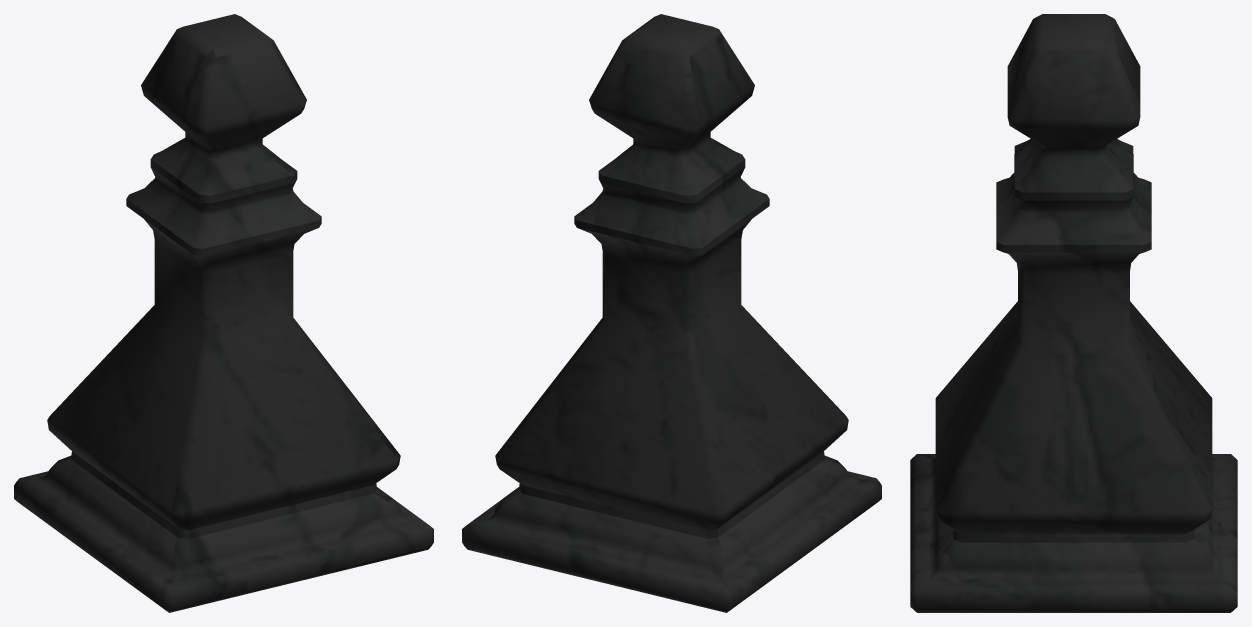
The model's file is chess_pawn_01-black.glb.
3 renders of one model, left to right at view 1: azimuth 30°, elevation 25°; view 2: azimuth 150°, elevation 25°; view 3: azimuth 270°, elevation 25°, orthographic. The views are drawn at different scales.
Parts seen in each view (by area): view 1: pawn_01; view 2: pawn_01; view 3: pawn_01.
Boxes of the visible parts, x1=… form: pawn_01: x1=14, y1=14, x2=433, y2=612; pawn_01: x1=462, y1=14, x2=881, y2=612; pawn_01: x1=910, y1=14, x2=1237, y2=612.
Size of the model in its own units: 0.5712 by 1 by 0.5712.
1 material, 1 textured.
